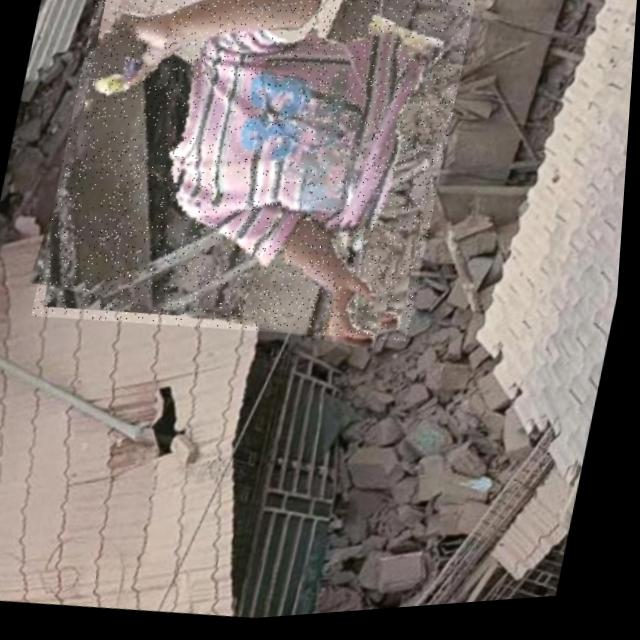Person in Rubble: (33, 0, 480, 369)
